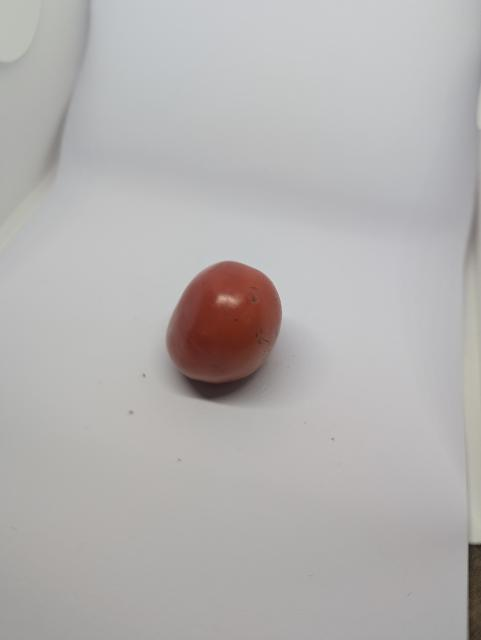red: (165, 259, 287, 389)
